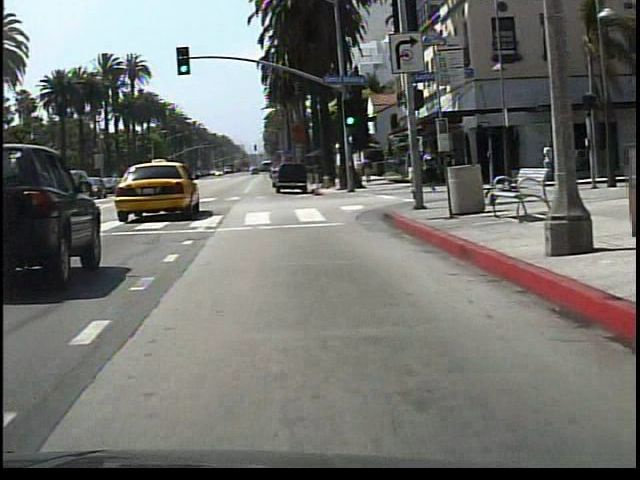person: (408, 146, 424, 197), (538, 140, 554, 182)
